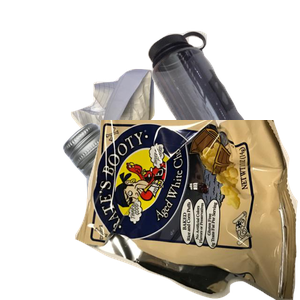glass: (60, 120, 300, 300)
paper: (68, 66, 215, 197)
plastic: (145, 28, 300, 192)
trash: (75, 120, 300, 300)
